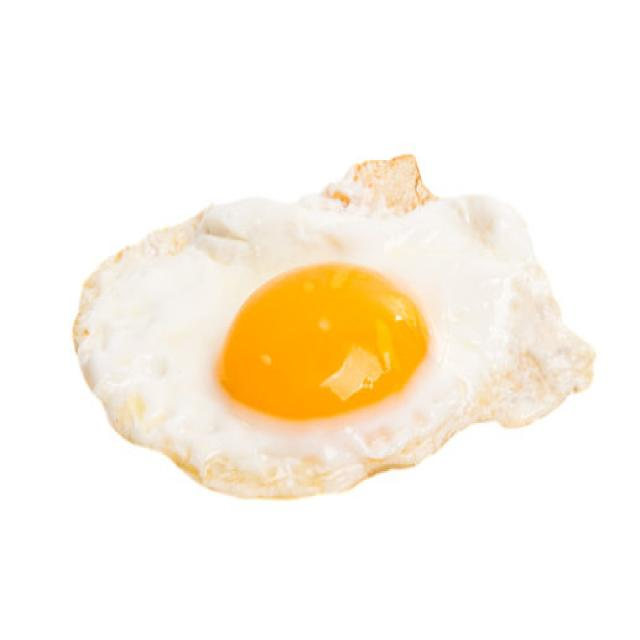Egg: (74, 154, 594, 496)
